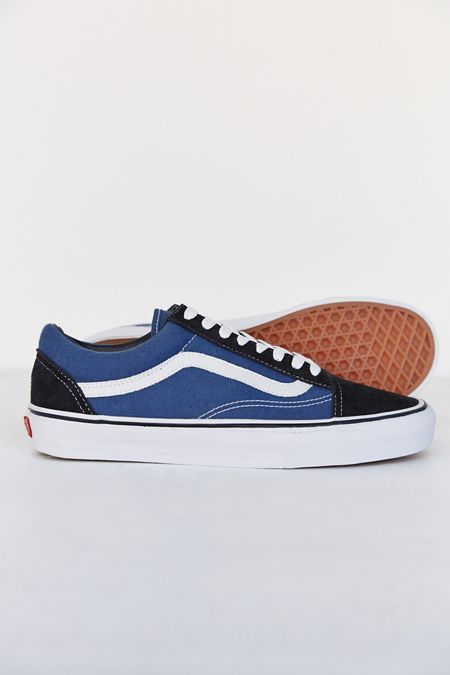Vans Old Skool Blue: (16, 291, 441, 474)
